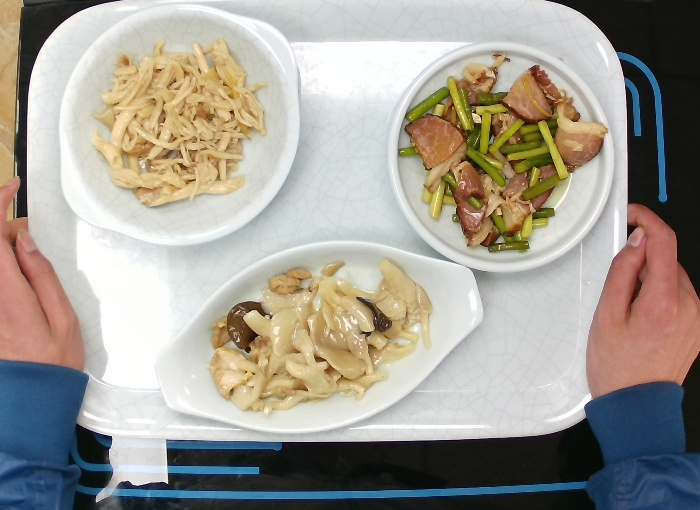JYsf-Shuang_Er_Wan: (58, 1, 305, 247)
JYsf-Xiao_Yuan_Pan: (386, 42, 617, 272)
JYsf-Yu_Pan: (150, 236, 486, 431)
